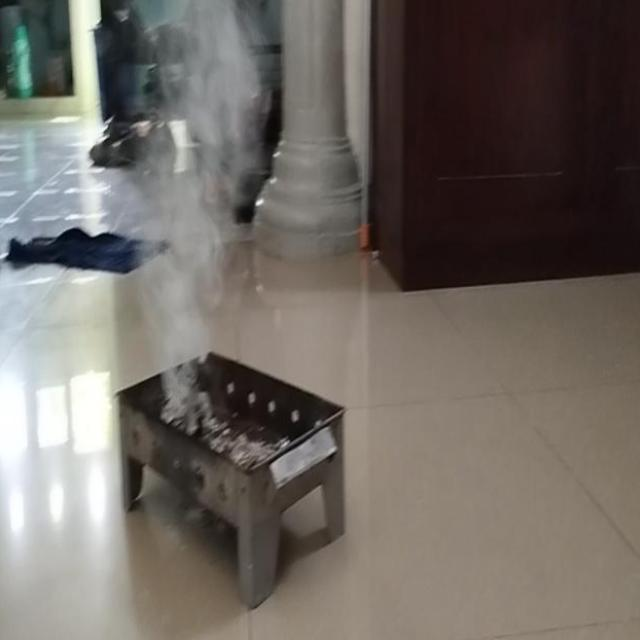fire: (156, 0, 262, 200), (138, 175, 224, 398)
